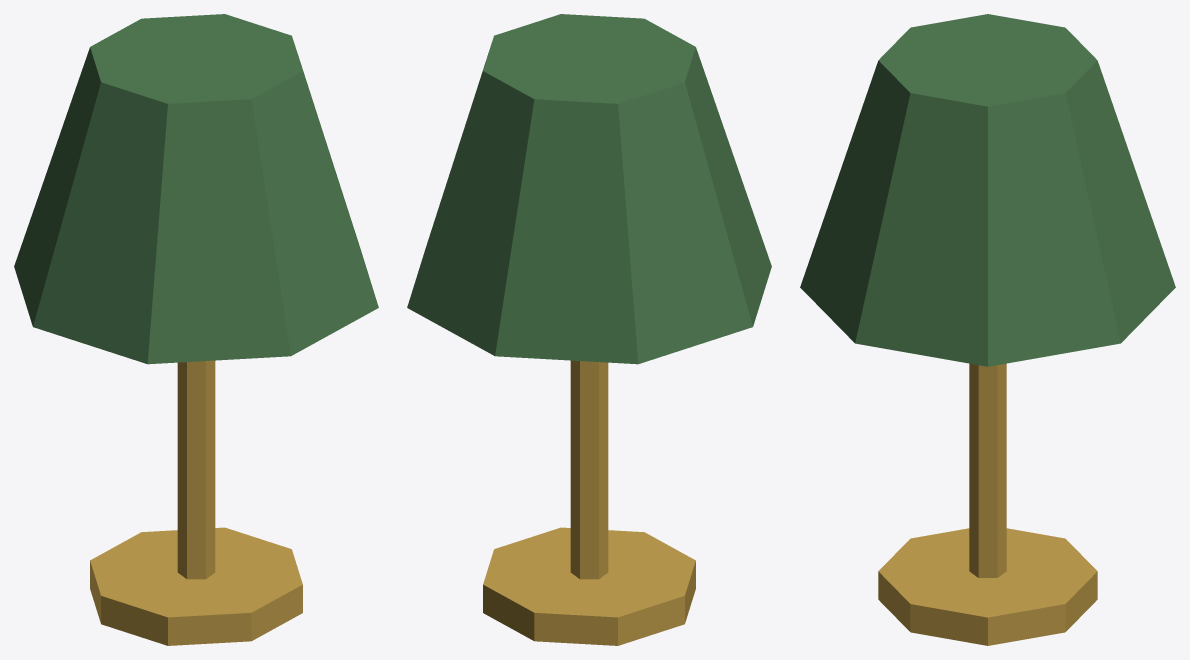
Rendered from tableLampGreen.fbx.
The picture shows the model from 3 angles, left to right: view 1: azimuth 30°, elevation 25°; view 2: azimuth 150°, elevation 25°; view 3: azimuth 270°, elevation 25°; orthographic projection.
Visible parts, largest first — view 1: tableLampGreen; view 2: tableLampGreen; view 3: tableLampGreen.
Boxes of the visible parts, <box> form: tableLampGreen: <box>14,14,378,645</box>; tableLampGreen: <box>407,14,771,645</box>; tableLampGreen: <box>800,14,1175,645</box>.
Bounding box in the file's own units: 0.96 × 1.52 × 0.96.
